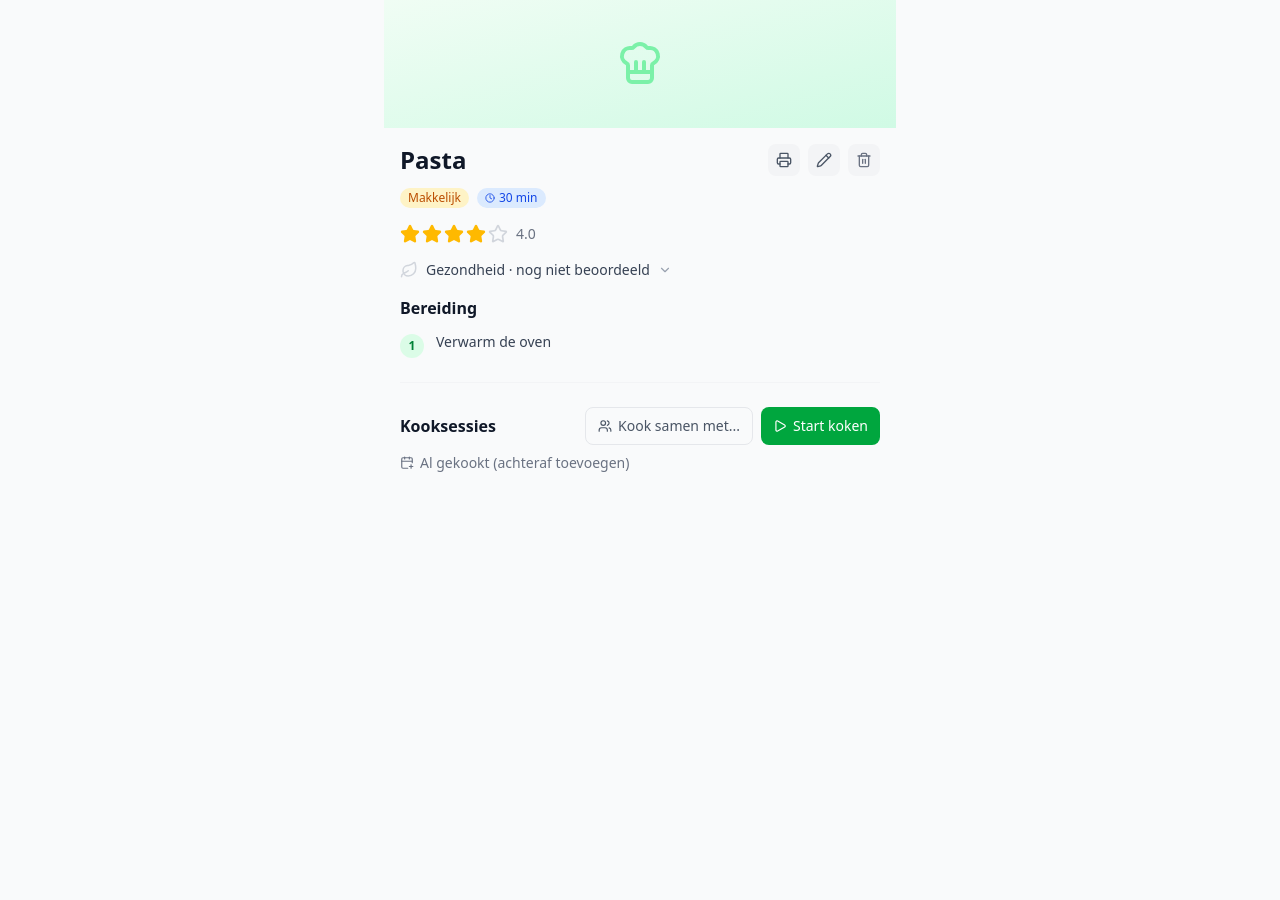
Test: RecipeDetail "Kook samen met..." pairing › opens the picker and lists other recipes, excluding this one and step-less ones
Expected: the heading "Pasta" is shown, 400,144 -> 466,176
Step 1. Click the button "Kook samen met..." → (669, 426), box 585,407 -> 753,445
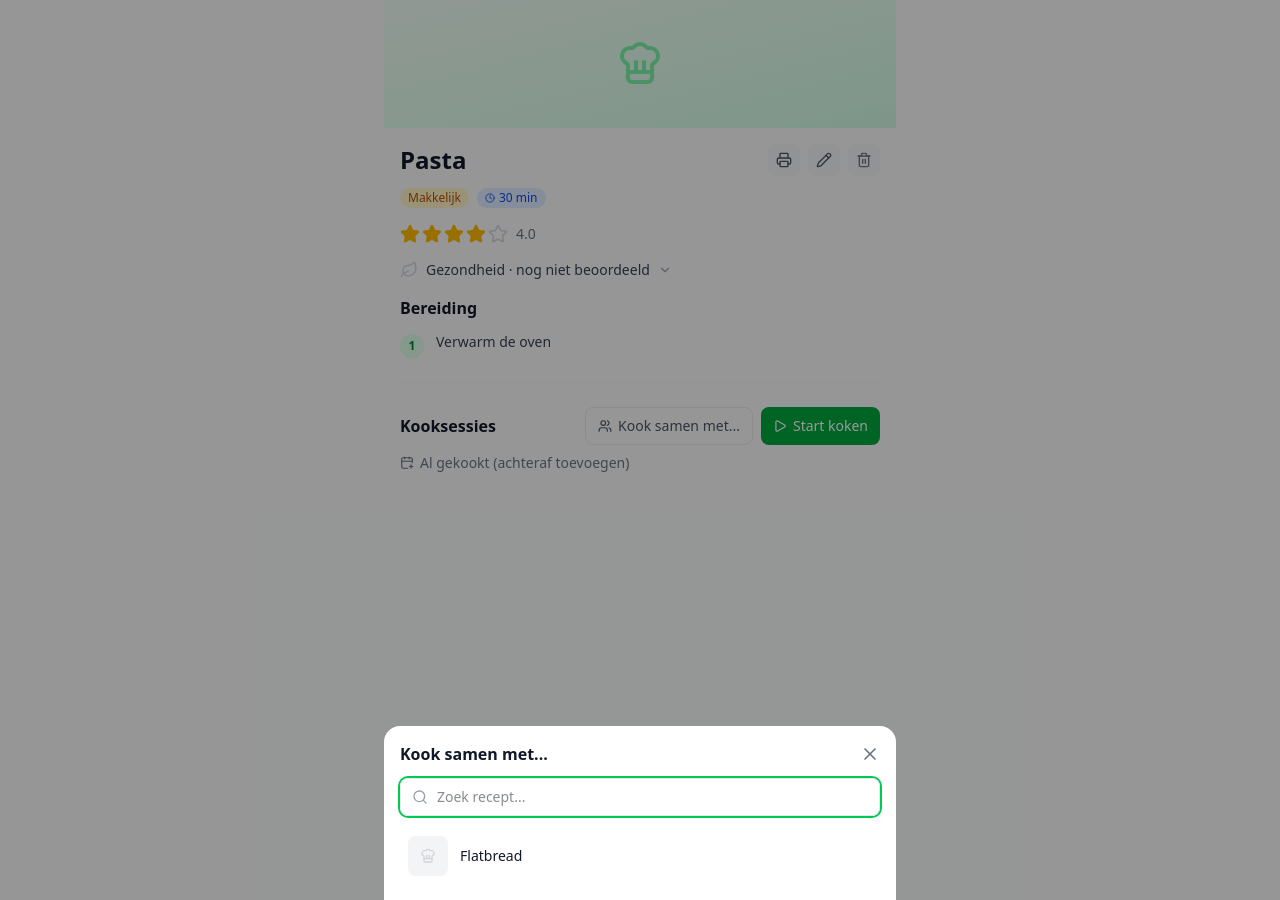
Result: the text "Flatbread" is shown at 460,846 -> 522,866
